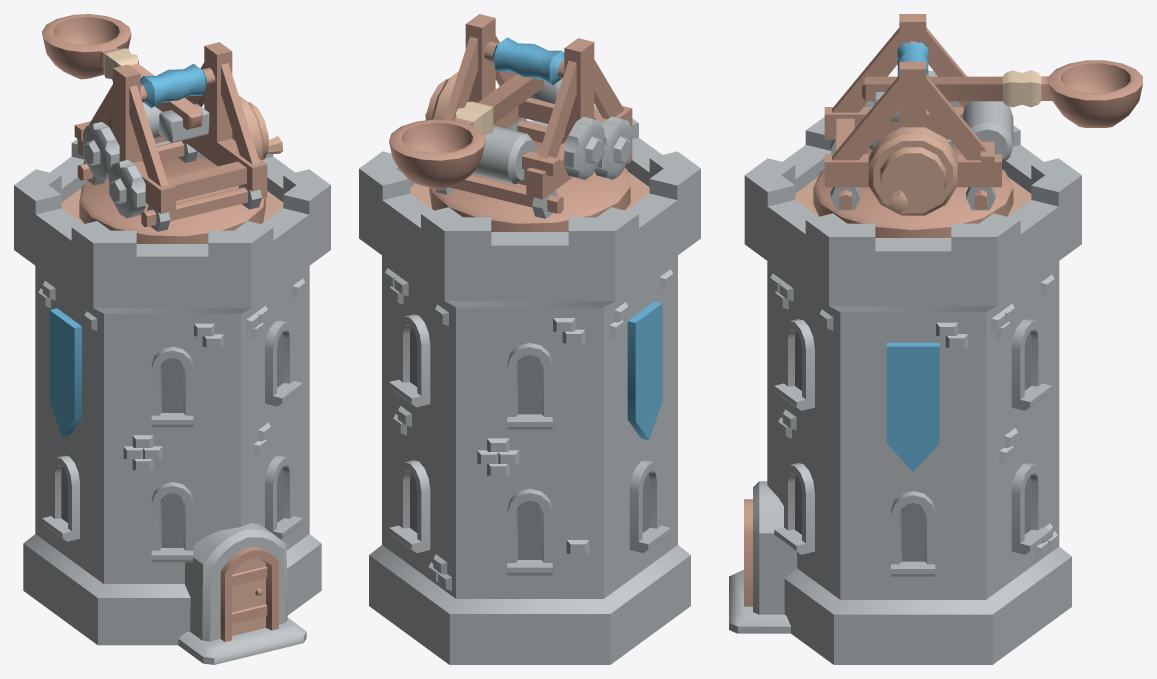
Rendered from tower_catapult_part.glb.
3 renders of one model, left to right at view 1: azimuth 30°, elevation 25°; view 2: azimuth 150°, elevation 25°; view 3: azimuth 270°, elevation 25°, orthographic. The views are drawn at different scales.
Visible parts, largest first — view 1: X_building_tower_catapult_blue, X_catapult_turret_blue, X_catapult_arm_blue; view 2: X_building_tower_catapult_blue, X_catapult_turret_blue, X_catapult_arm_blue; view 3: X_building_tower_catapult_blue, X_catapult_turret_blue, X_catapult_arm_blue.
Boxes of the visible parts, x1,y1,x2,y2 form: X_building_tower_catapult_blue: (14,139,330,664); X_catapult_turret_blue: (74,42,283,243); X_catapult_arm_blue: (42,14,209,142); X_building_tower_catapult_blue: (359,106,700,664); X_catapult_turret_blue: (425,14,632,231); X_catapult_arm_blue: (389,74,562,189); X_building_tower_catapult_blue: (729,117,1081,664); X_catapult_turret_blue: (813,14,1013,237); X_catapult_arm_blue: (862,60,1142,127).
Bounding box in the file's own units: 0.9298 × 1.96 × 1.3.
